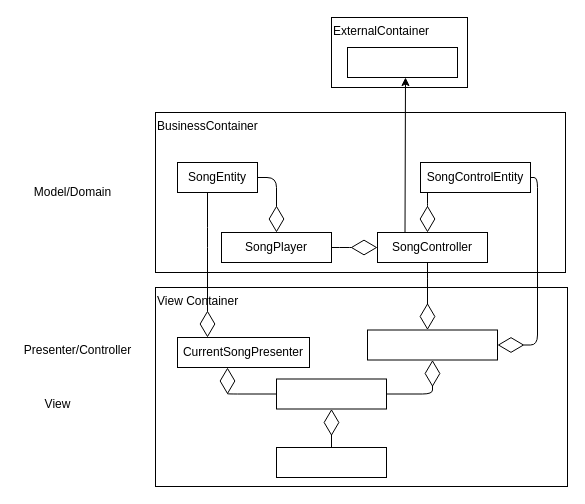
Some shapes in this 585 by 504 pixel diagram are drawn without their labels. The centre of each missing label's shape, as x and y in pixels:
SongControlPresenter: (432,344)
SongUrlProvider: (402,62)
Ui: (331,462)
Views: (331,393)
